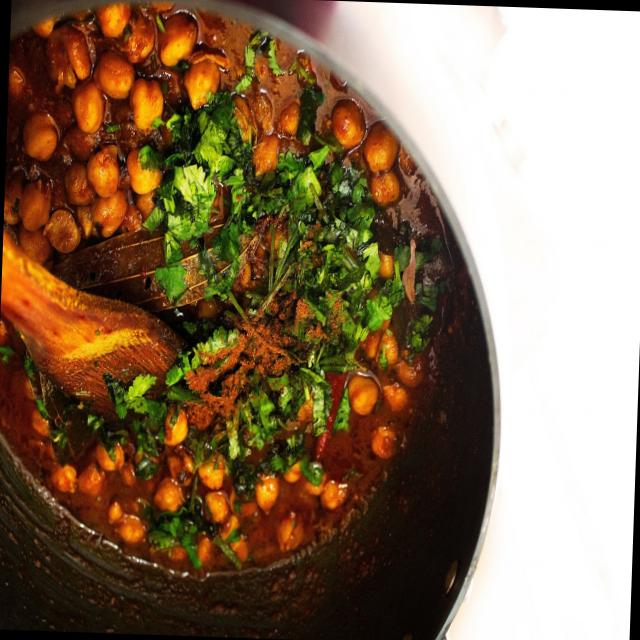Chole: (0, 0, 461, 582)
